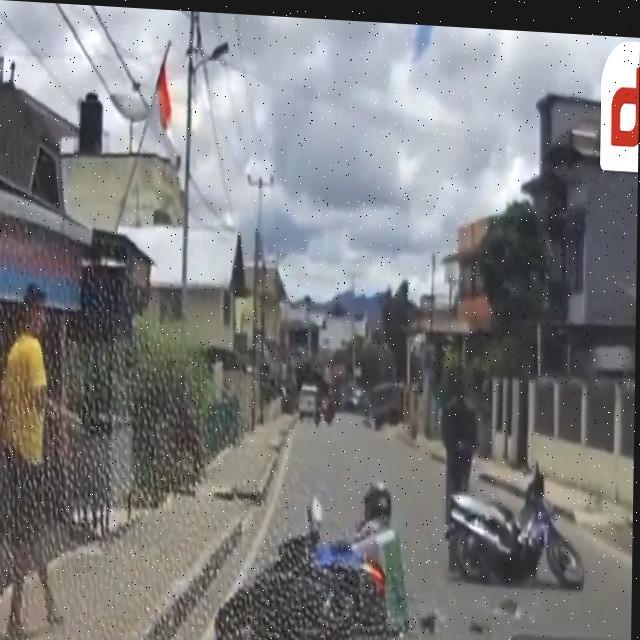multiple_accident: (172, 482, 420, 640), (442, 413, 580, 597)
